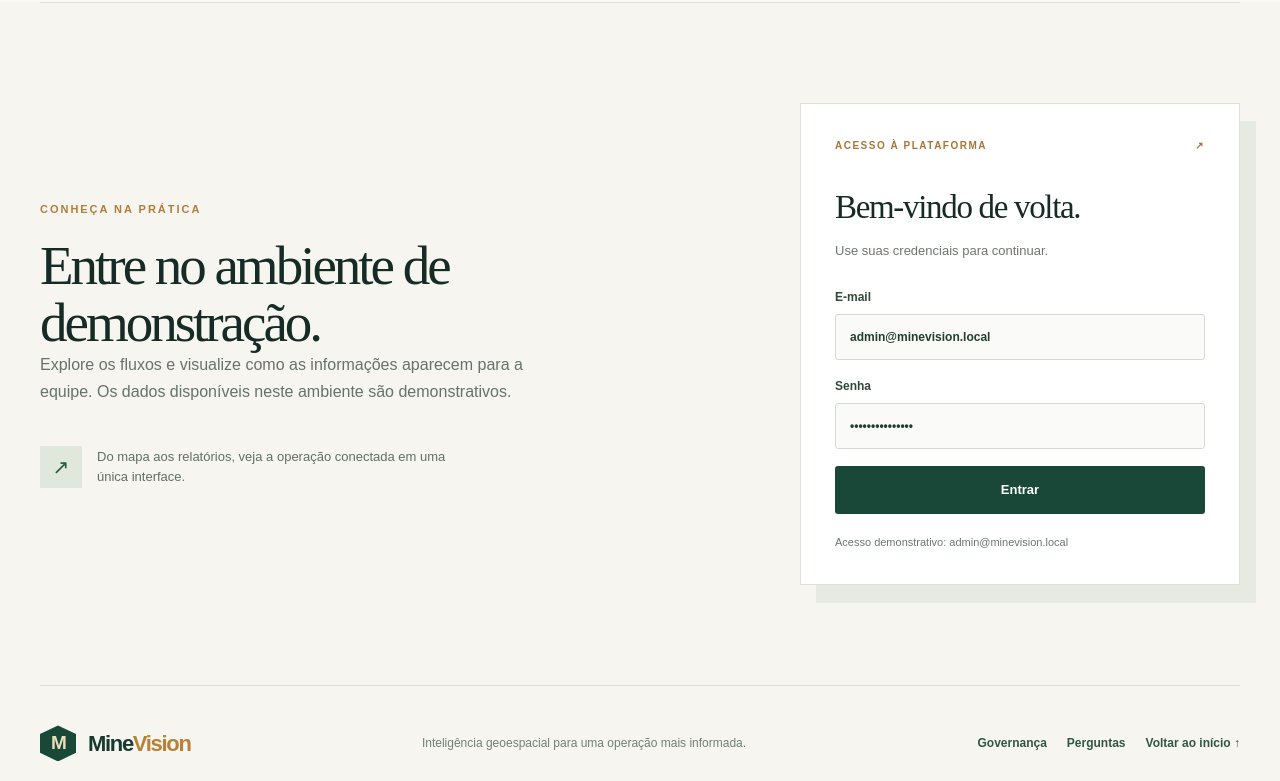
Scenario: login page › shows a credential-specific message for unauthorized access
The image size is (1280, 781).
(page scrolled)
Click the button "Entrar": (1020, 490) [835,466,1205,514]
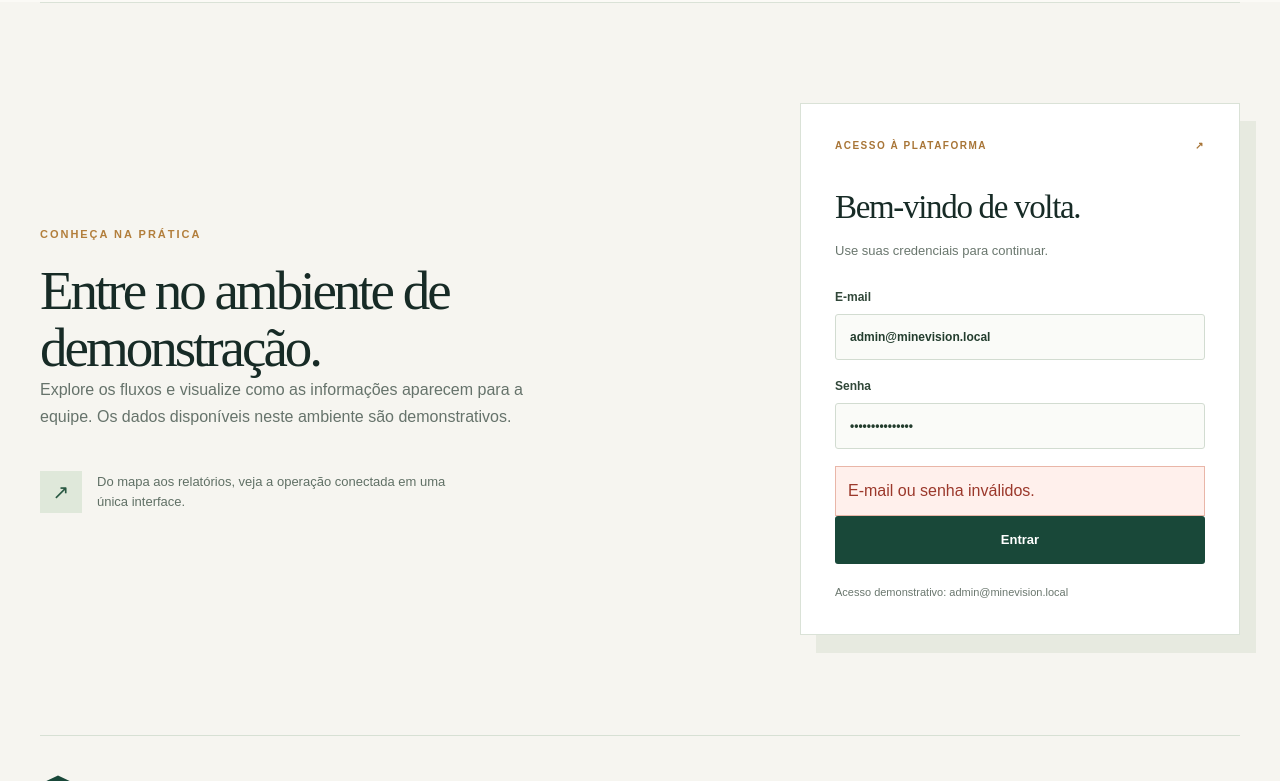
Now the message shows "E-mail ou senha inválidos", box [848,482,1035,500]
